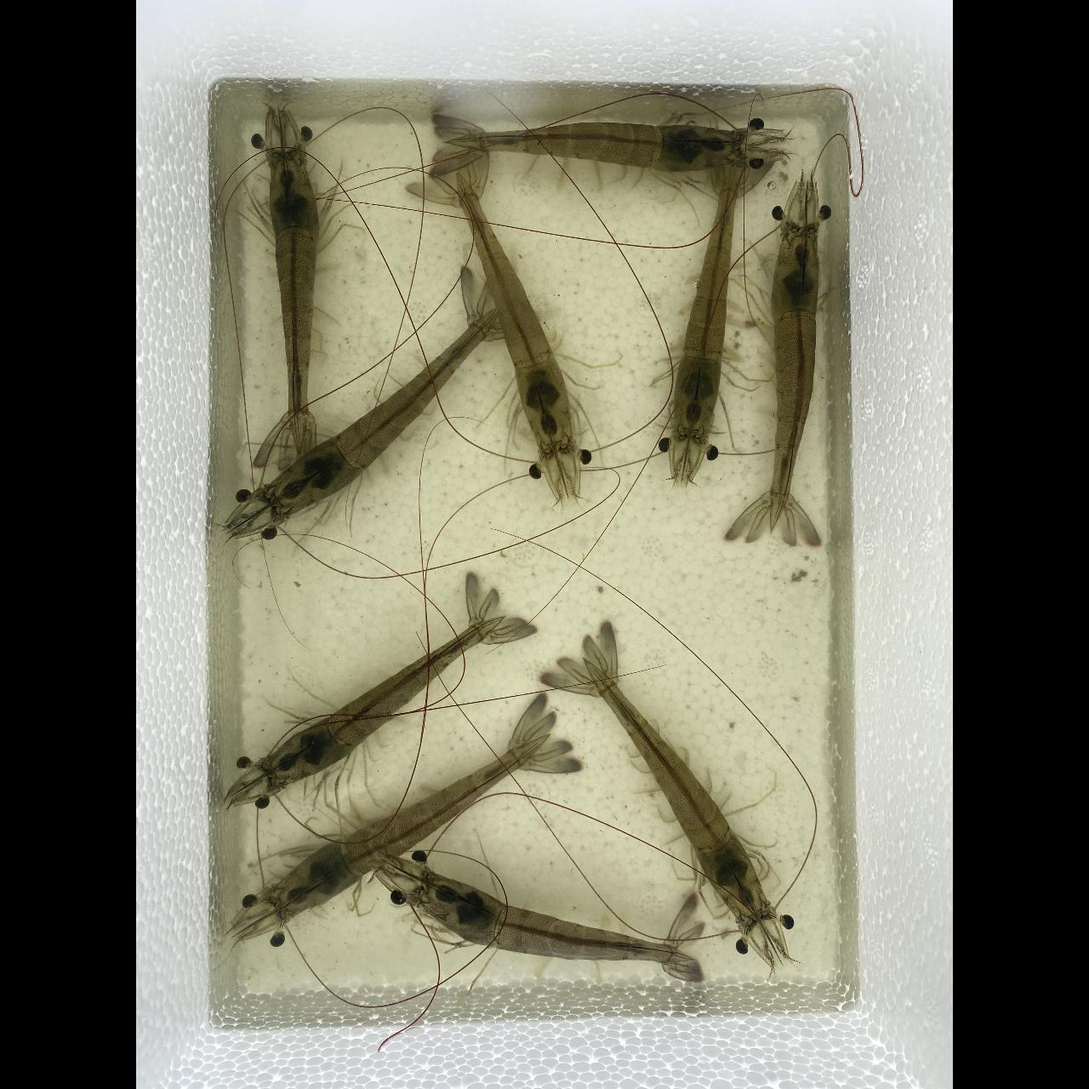top_shrimp: (275, 736, 549, 919), (267, 306, 501, 514), (584, 658, 768, 921), (267, 616, 504, 785), (457, 173, 571, 451), (423, 875, 694, 961), (674, 157, 736, 440), (270, 150, 321, 455), (769, 227, 820, 532), (439, 122, 742, 171)
